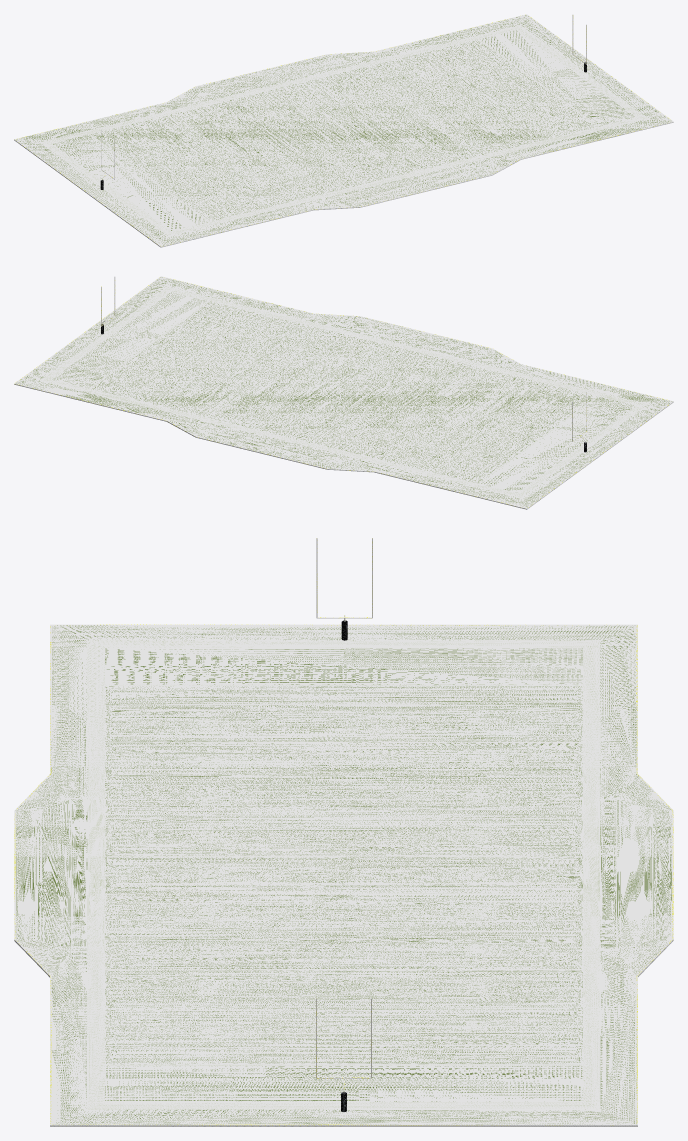
The picture shows the model from 3 angles, top to bottom: view 1: azimuth 30°, elevation 25°; view 2: azimuth 150°, elevation 25°; view 3: azimuth 270°, elevation 25°; orthographic projection. The views are drawn at different scales.
Visible parts, largest first — view 1: SketchUp (×30); view 2: SketchUp (×30); view 3: SketchUp (×30).
Part boxes in pixels (x1,y1,x2,y2): SketchUp (×30): (14, 14, 673, 247); SketchUp (×30): (14, 276, 673, 509); SketchUp (×30): (14, 624, 673, 1126).
Bounding box in the file's own units: 4764 × 2652 × 480.
Materials: 7 (2 with a texture image).
